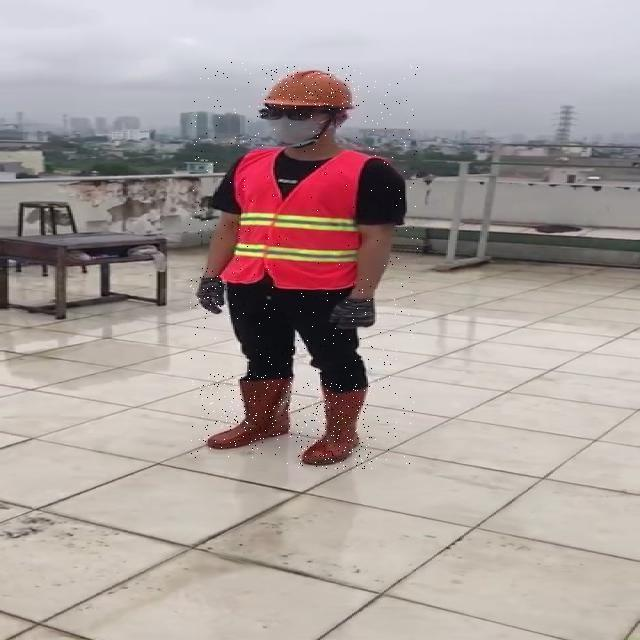gloves: (329, 296, 375, 329), (195, 274, 224, 314)
goggles: (258, 107, 329, 122)
helmet: (262, 66, 359, 112)
safety_vest: (216, 147, 380, 289)
